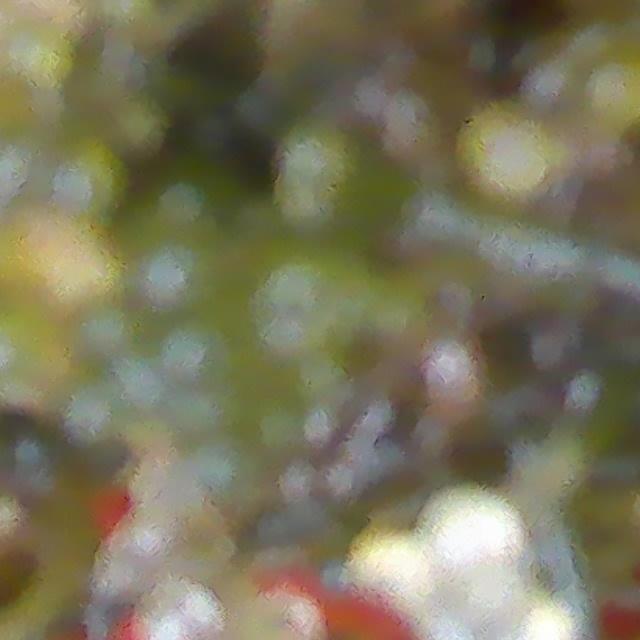SeaGrape: (420, 482, 527, 594), (456, 104, 561, 209), (42, 129, 136, 228), (0, 304, 76, 411), (71, 295, 145, 367), (1, 25, 79, 93), (140, 581, 219, 640)
